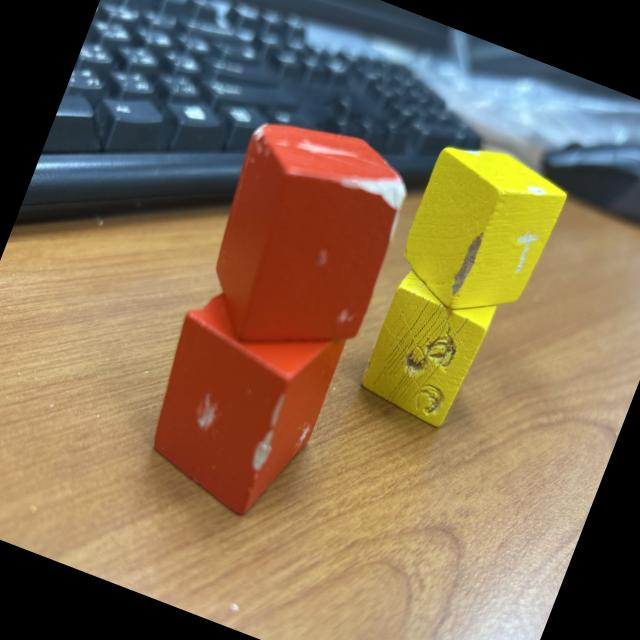broken: (182, 102, 424, 377), (125, 268, 354, 529), (388, 131, 574, 335), (356, 263, 501, 432)
